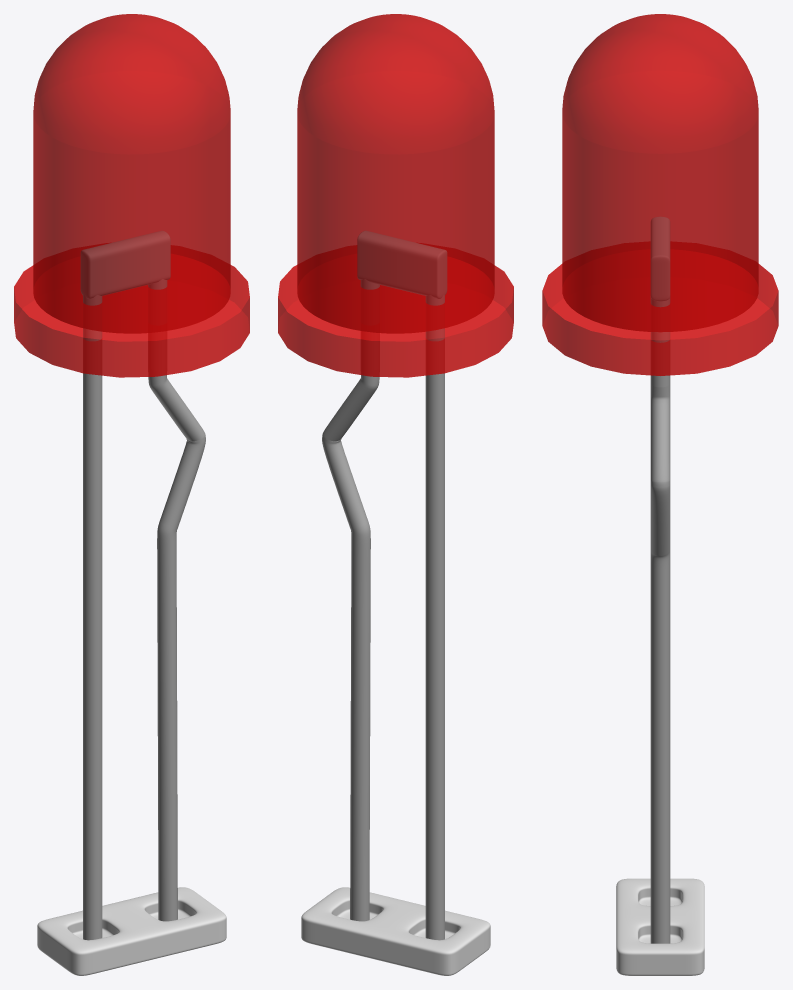
File: Led-Rojo.fbx
The picture shows the model from 3 angles, left to right: view 1: azimuth 30°, elevation 25°; view 2: azimuth 150°, elevation 25°; view 3: azimuth 270°, elevation 25°; orthographic projection.
Parts seen in each view (by area): view 1: CabezaLed, BaseLed, Pata2Led, Pata1Led, ProtoboardLedRojo, CircuitoLed; view 2: CabezaLed, BaseLed, Pata2Led, Pata1Led, ProtoboardLedRojo, CircuitoLed; view 3: CabezaLed, BaseLed, Pata1Led, ProtoboardLedRojo, CircuitoLed.
Part boxes in pixels (<box>): CabezaLed: <box>33,14,230,333</box>; BaseLed: <box>14,253,249,377</box>; Pata2Led: <box>83,295,102,940</box>; Pata1Led: <box>148,279,205,921</box>; ProtoboardLedRojo: <box>37,887,226,975</box>; CircuitoLed: <box>81,231,170,298</box>; CabezaLed: <box>297,14,494,333</box>; BaseLed: <box>278,253,513,377</box>; Pata2Led: <box>425,295,444,940</box>; Pata1Led: <box>322,279,379,921</box>; ProtoboardLedRojo: <box>301,887,490,975</box>; CircuitoLed: <box>357,231,446,298</box>; CabezaLed: <box>562,14,758,332</box>; BaseLed: <box>542,249,778,375</box>; Pata1Led: <box>650,298,670,943</box>; ProtoboardLedRojo: <box>616,878,704,975</box>; CircuitoLed: <box>651,217,669,300</box>.
Bounding box in the file's own units: 0.12 × 0.5145 × 0.12.
